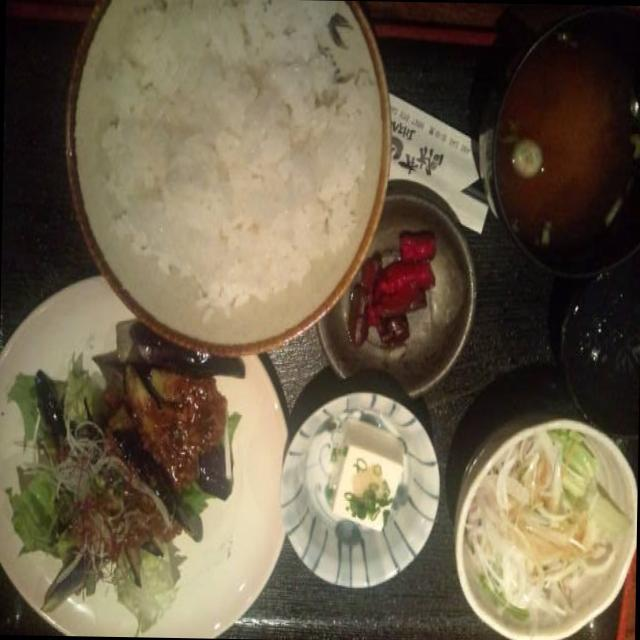Rice: (103, 0, 370, 307)
